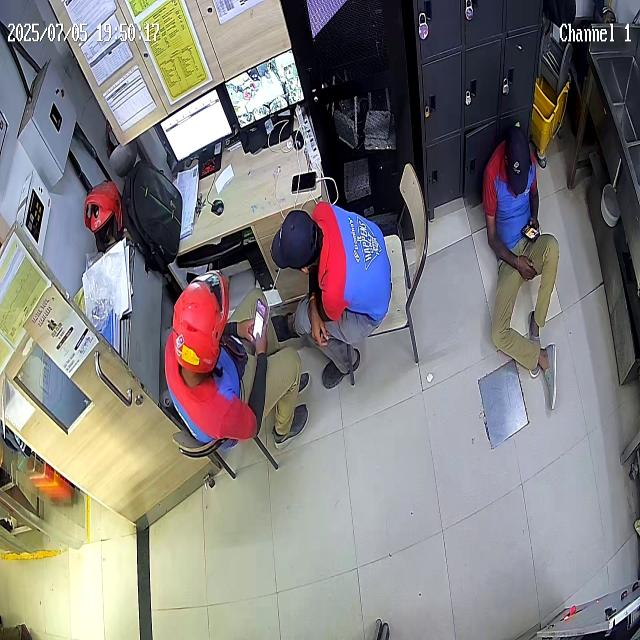helmet: (172, 269, 229, 373)
no_helmet: (272, 209, 322, 270), (505, 126, 530, 194)
